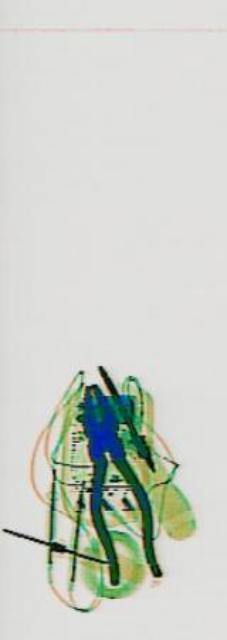Pliers: (68, 344, 159, 634)
